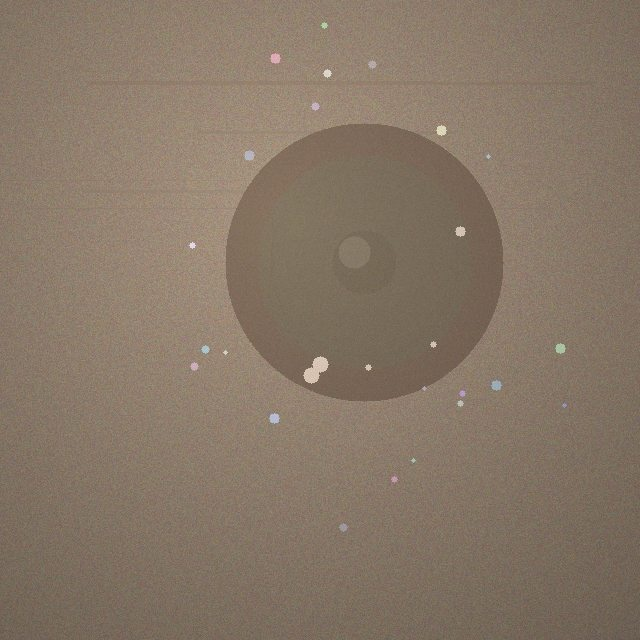overburn: (225, 123, 503, 401)
